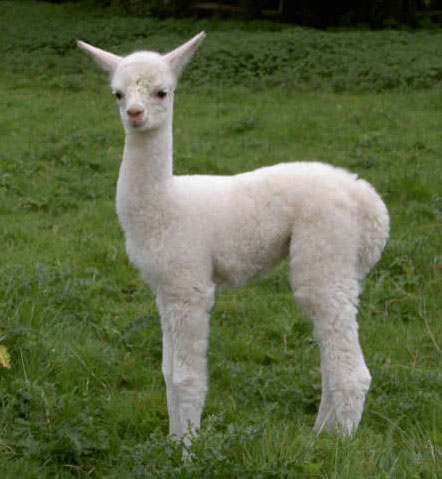alpaca: (74, 31, 393, 442)
